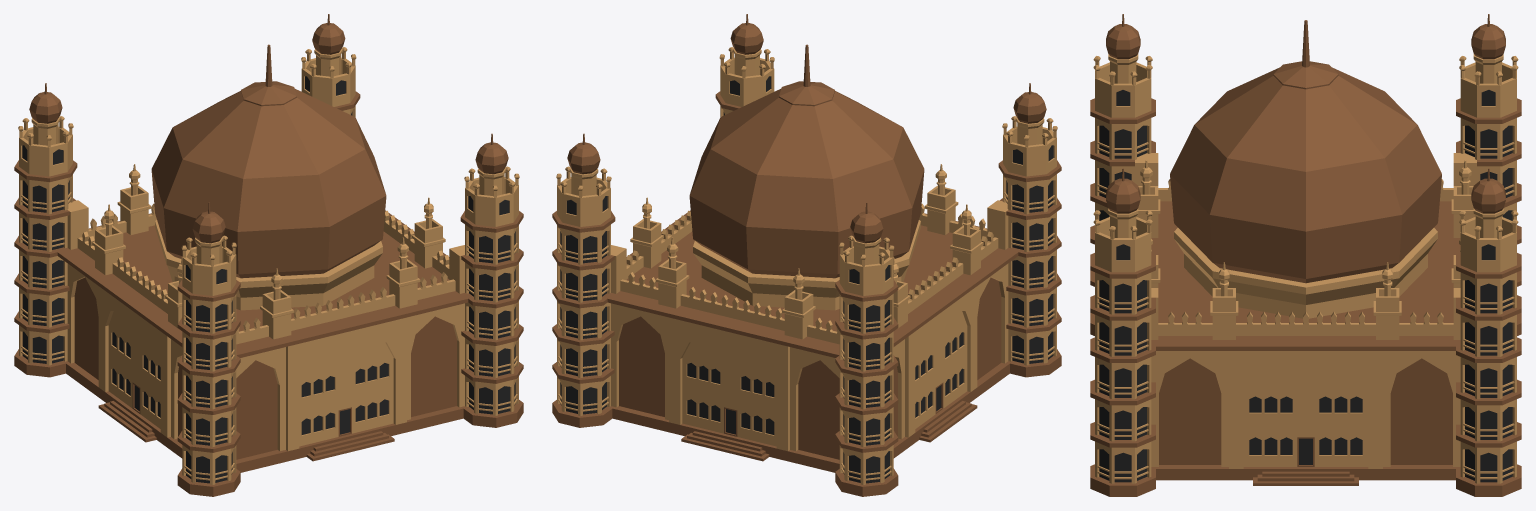
File: india_hindu-tomb-dome.fbx
The picture shows the model from 3 angles, left to right: view 1: azimuth 30°, elevation 25°; view 2: azimuth 150°, elevation 25°; view 3: azimuth 270°, elevation 25°; orthographic projection. The views are drawn at different scales.
Visible parts, largest first — view 1: india_hindu_tomb_dome; view 2: india_hindu_tomb_dome; view 3: india_hindu_tomb_dome.
Part boxes in pixels (x1,y1,x2,y2): india_hindu_tomb_dome: (14, 14, 523, 496); india_hindu_tomb_dome: (552, 14, 1061, 496); india_hindu_tomb_dome: (1090, 14, 1521, 496).
Bounding box in the file's own units: 200 × 197 × 200.
